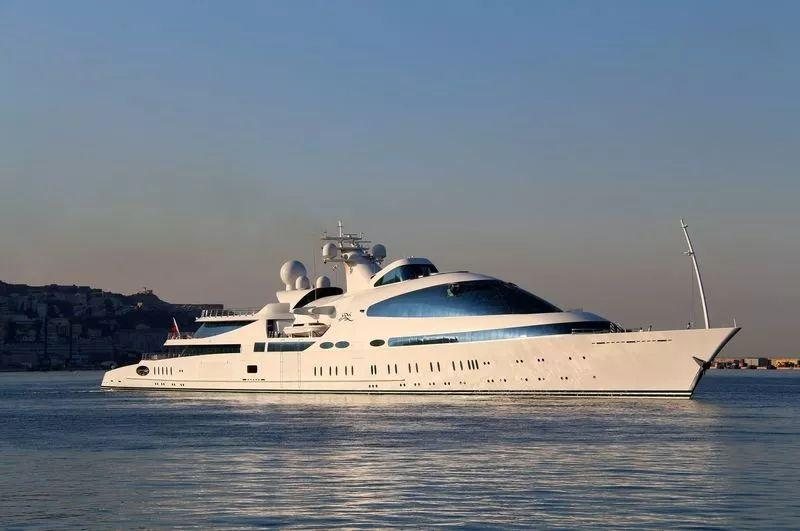yacht: (99, 218, 741, 398)
